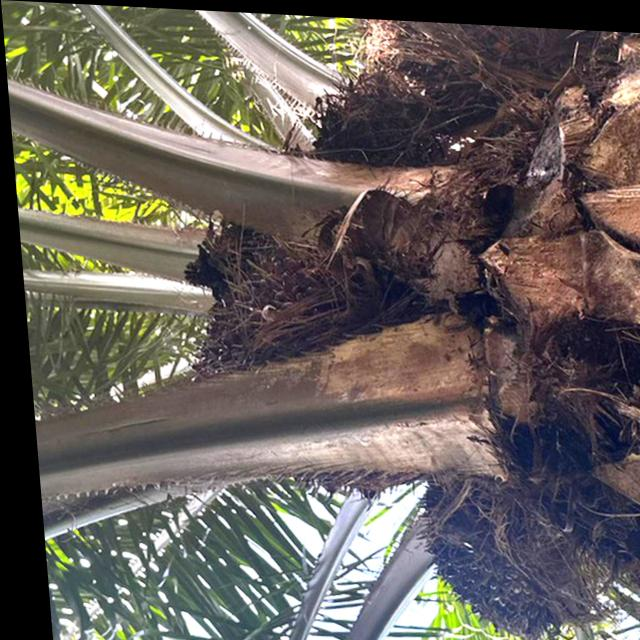ripe: (173, 235, 365, 391), (393, 461, 544, 633)
